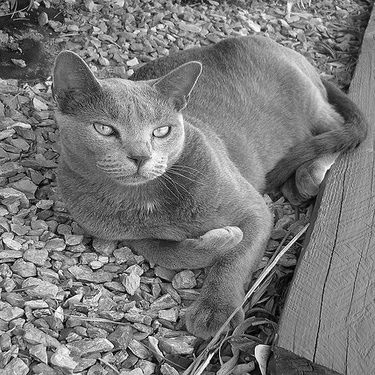cat: (49, 33, 369, 342)
